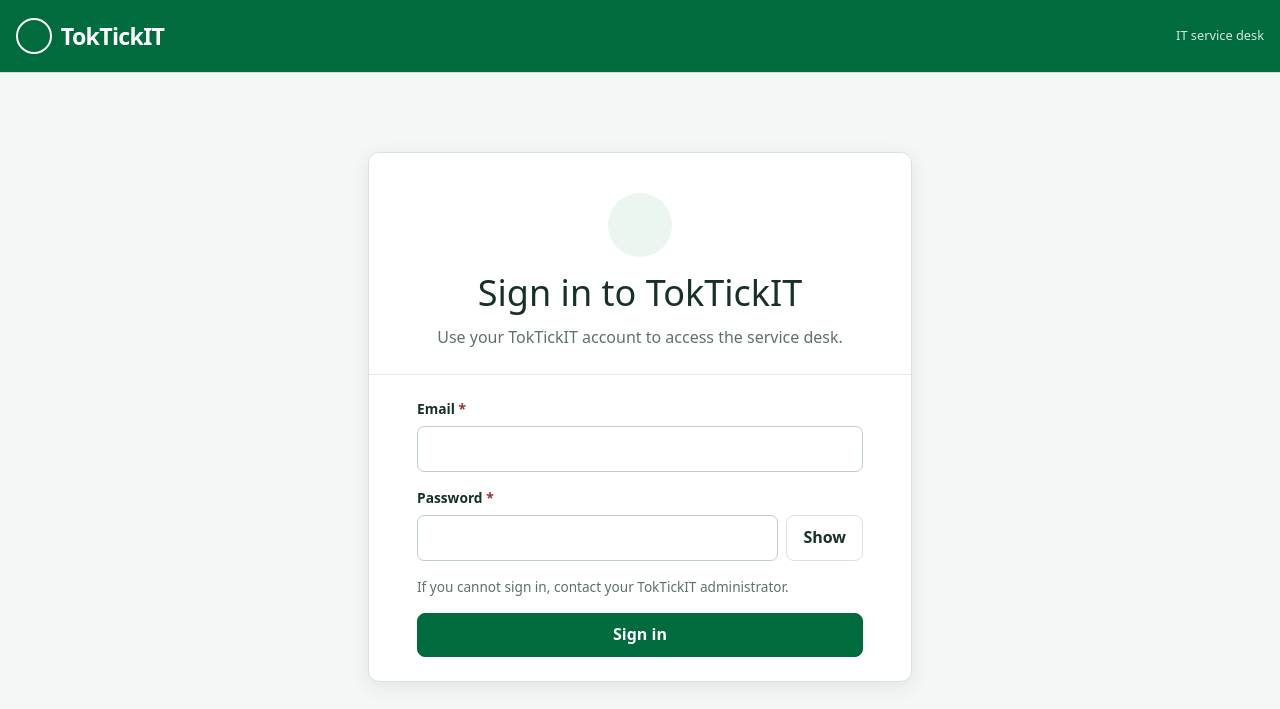
Test: authenticated identity screens › validates required login fields and preserves email on credential failure
Click the button "Sign in" at [640, 635], box [417,613,863,657]
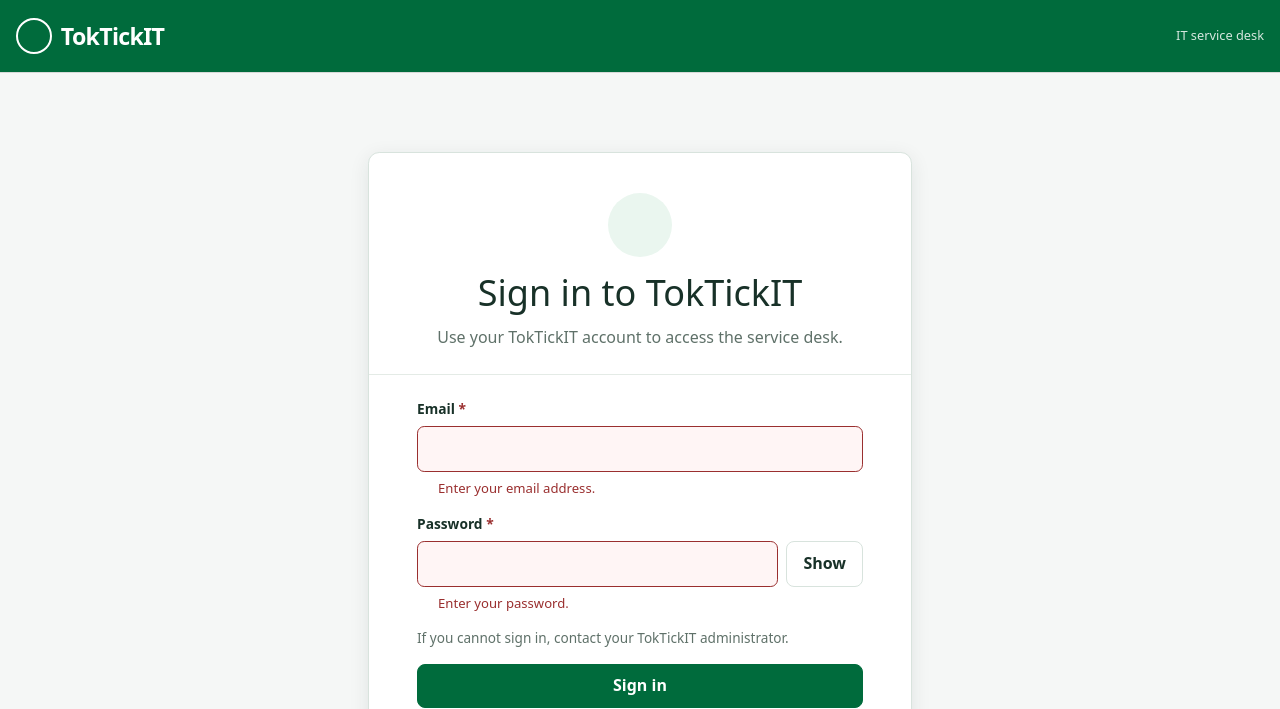
Expected: the text "Enter your email address." is shown, [438,479,595,497]
Expected: the text "Enter your password." is shown, [438,594,569,612]
Type "ada@example.test" into the field labelled "Email *" at [640, 449], box [417,426,863,472]
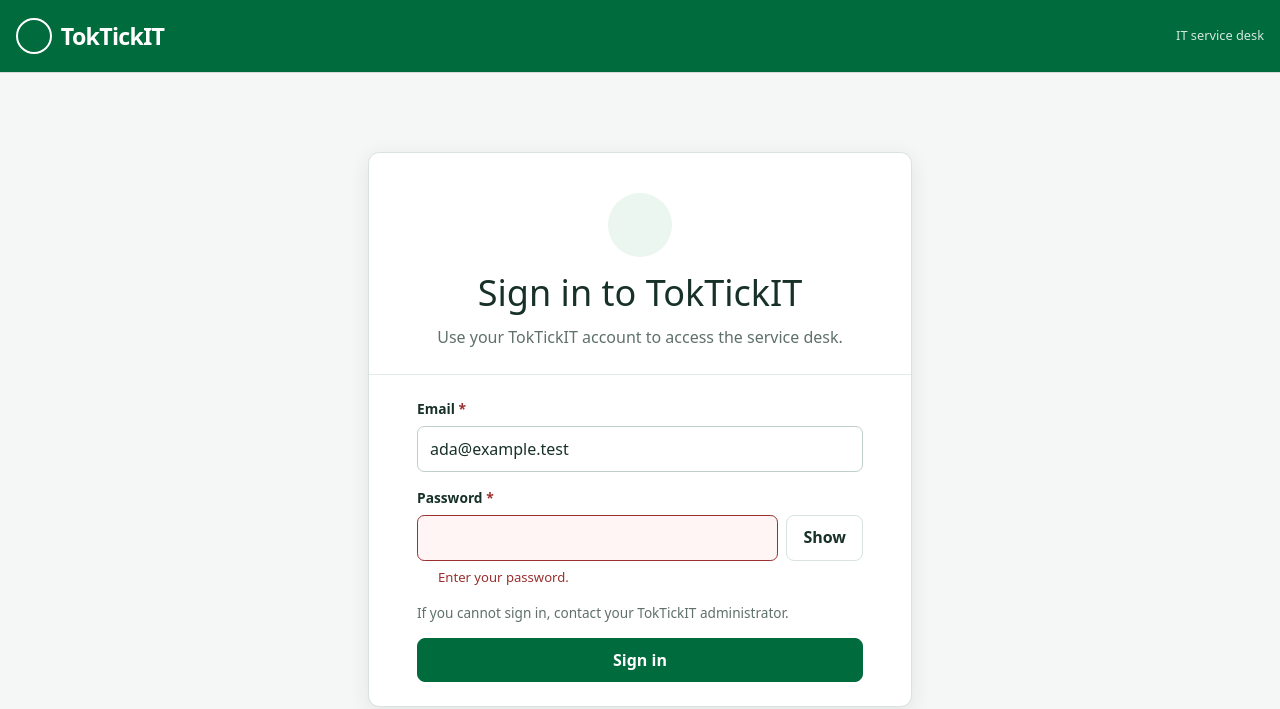
Type "incorrect password" into the password field labelled "Password *" at [598, 538], box [417,515,778,561]
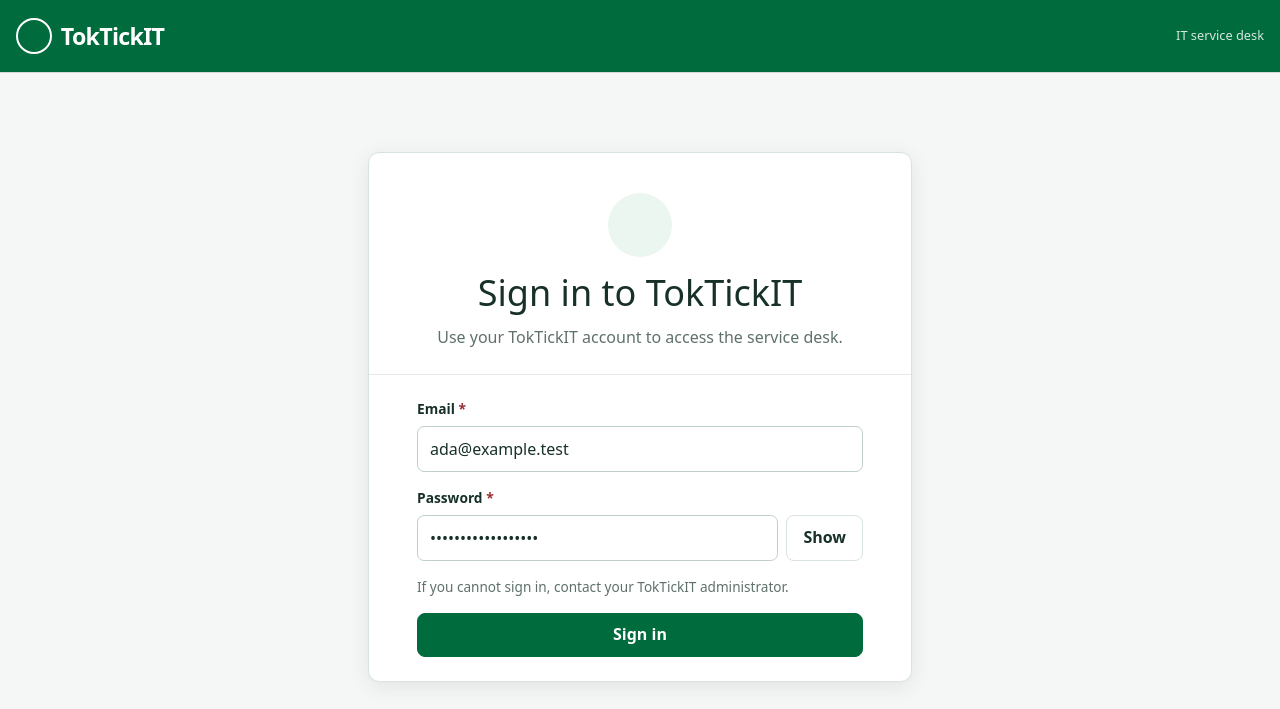
Click the button "Sign in" at [640, 635], box [417,613,863,657]
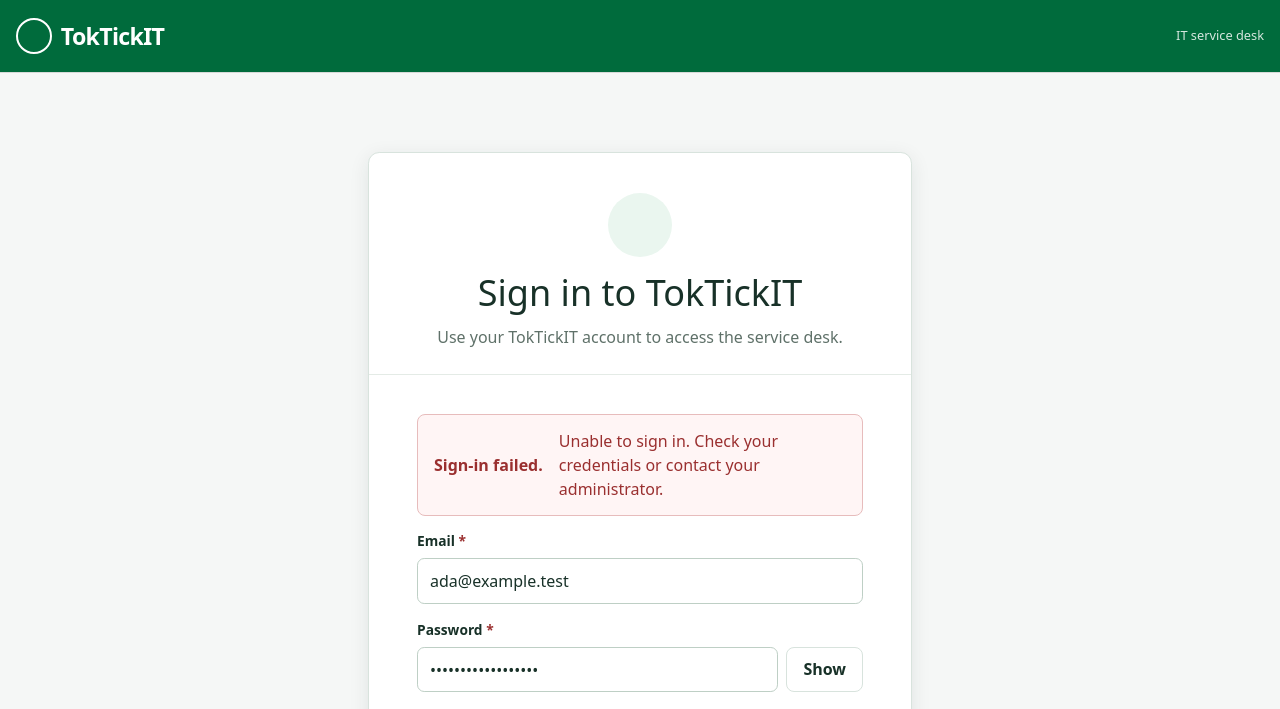
Expected: the text "Unable to sign in. Check your credentials or contact your administrator." is shown, [559,430,778,500]
